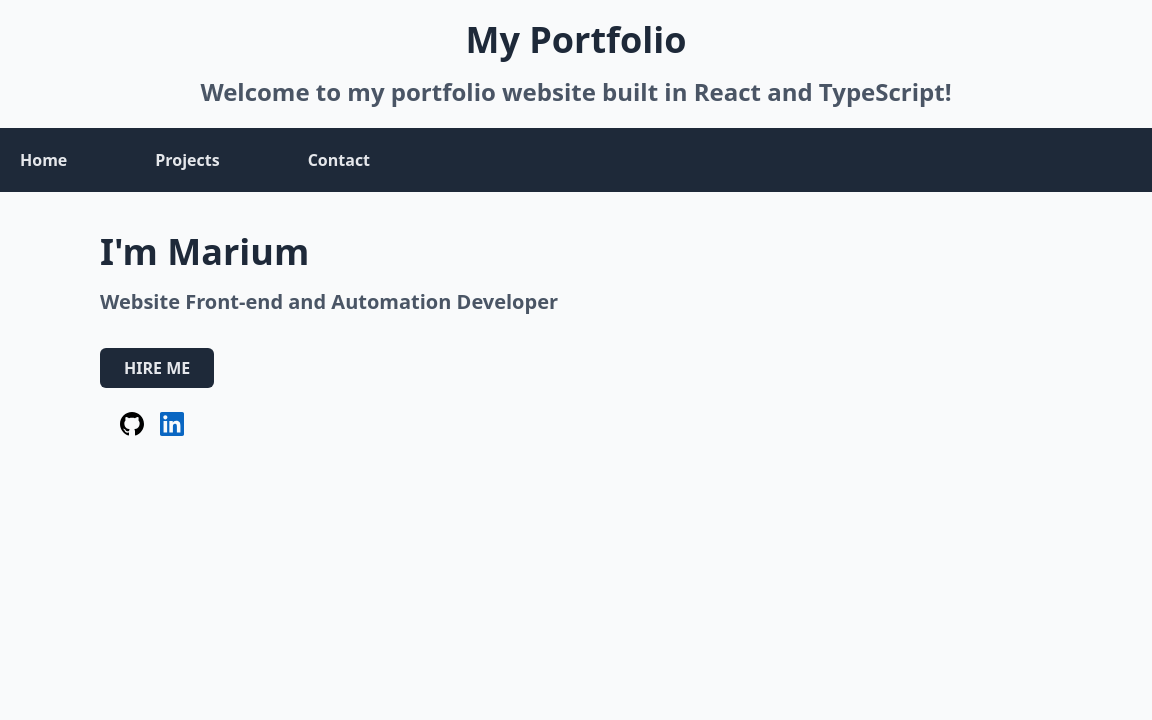
Test case: App Component › navigates to the Projects component when clicking the Projects link
Click the link "Projects". click: (188, 160)
box: [155,149,220,171]
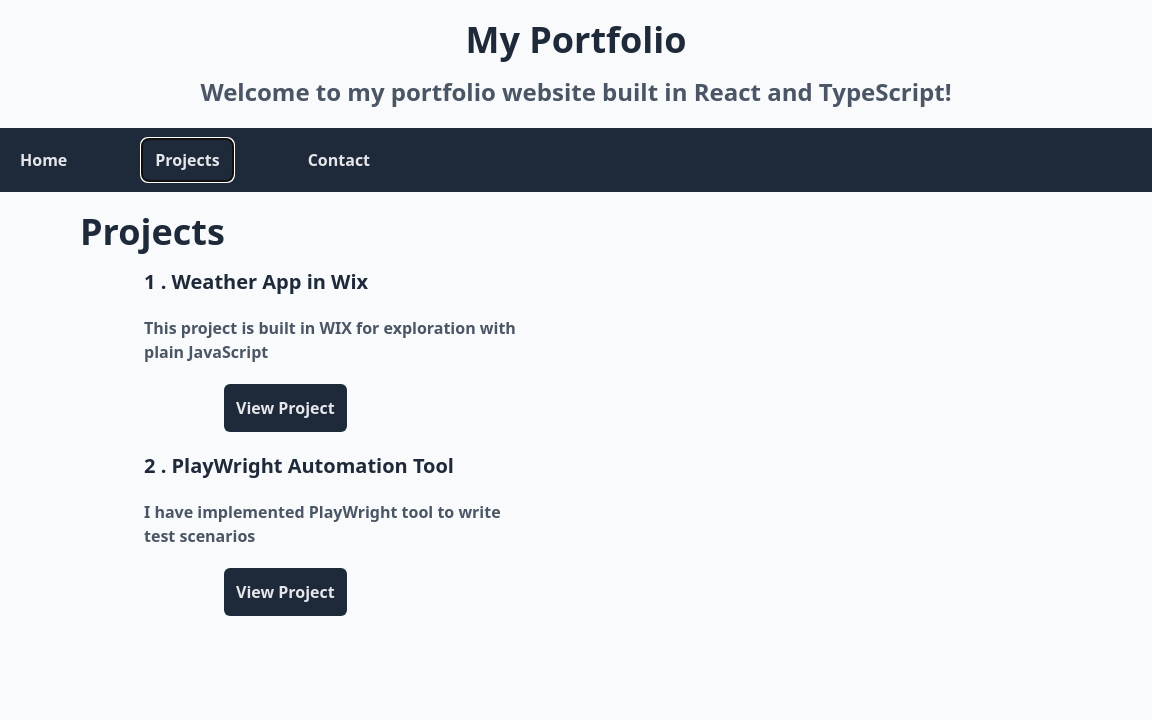
Expected: the heading "1 . Weather App in Wix" is shown, [144,268,368,295]
